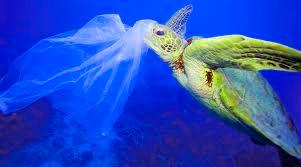Trash: (3, 15, 139, 133)
